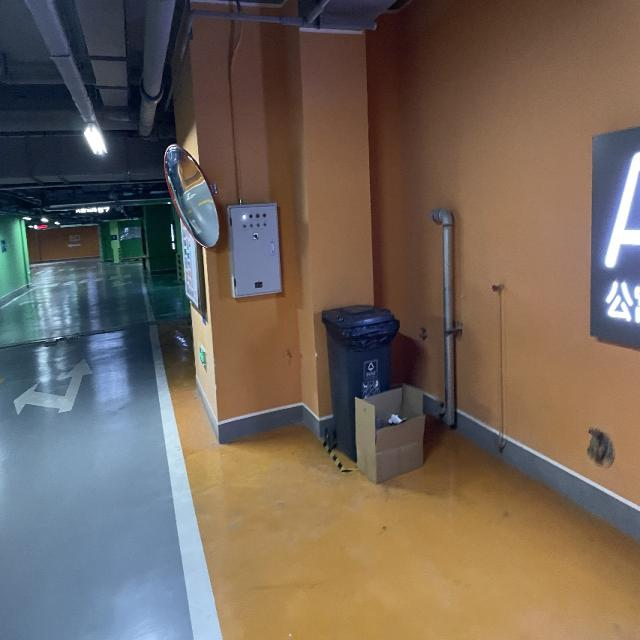garbage: (354, 382, 425, 484)
garbage_bin: (321, 304, 398, 461)
